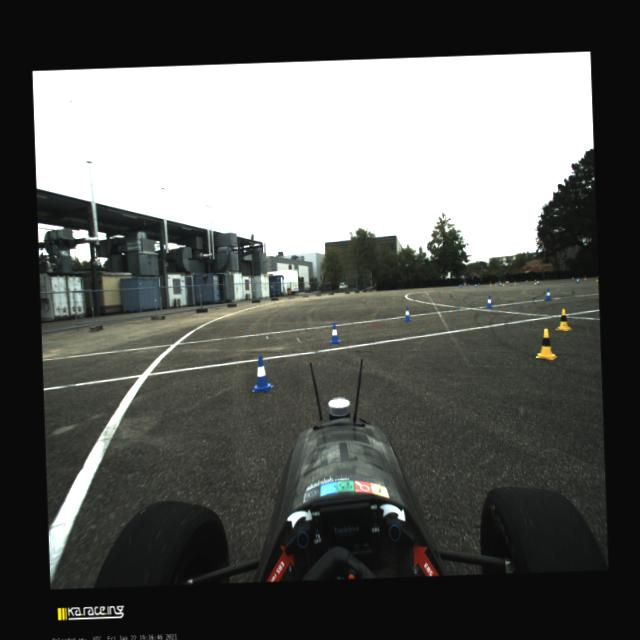blue_cone: (250, 354, 274, 392), (328, 322, 341, 343), (402, 306, 412, 321), (543, 288, 551, 300), (486, 294, 492, 308), (458, 282, 461, 288), (536, 280, 540, 284), (576, 278, 580, 282), (474, 282, 477, 287), (467, 282, 470, 286), (499, 282, 502, 286), (571, 276, 574, 280), (460, 282, 462, 286), (478, 282, 480, 286), (496, 281, 498, 285), (526, 280, 528, 282)
yellow_cone: (534, 328, 556, 360), (554, 308, 572, 330), (489, 282, 492, 286), (502, 280, 504, 286), (583, 276, 586, 280), (534, 279, 536, 284), (596, 276, 598, 281), (494, 282, 496, 286), (514, 280, 516, 284)
